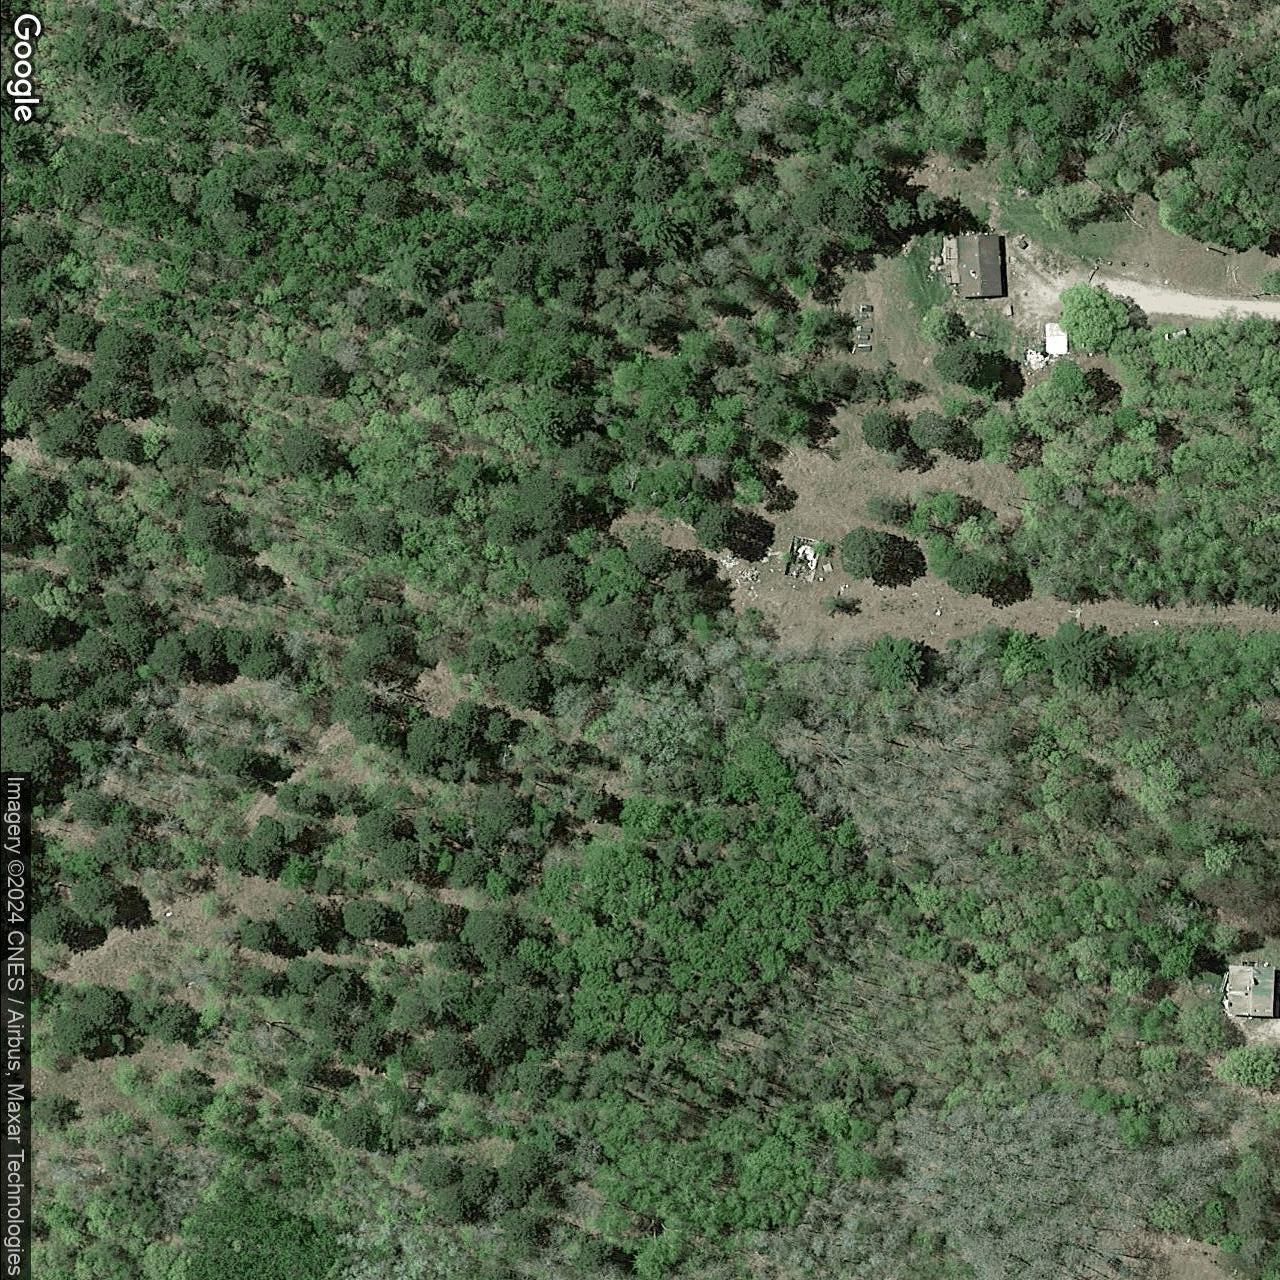House: (956, 233, 1002, 299), (1224, 964, 1274, 1019)
